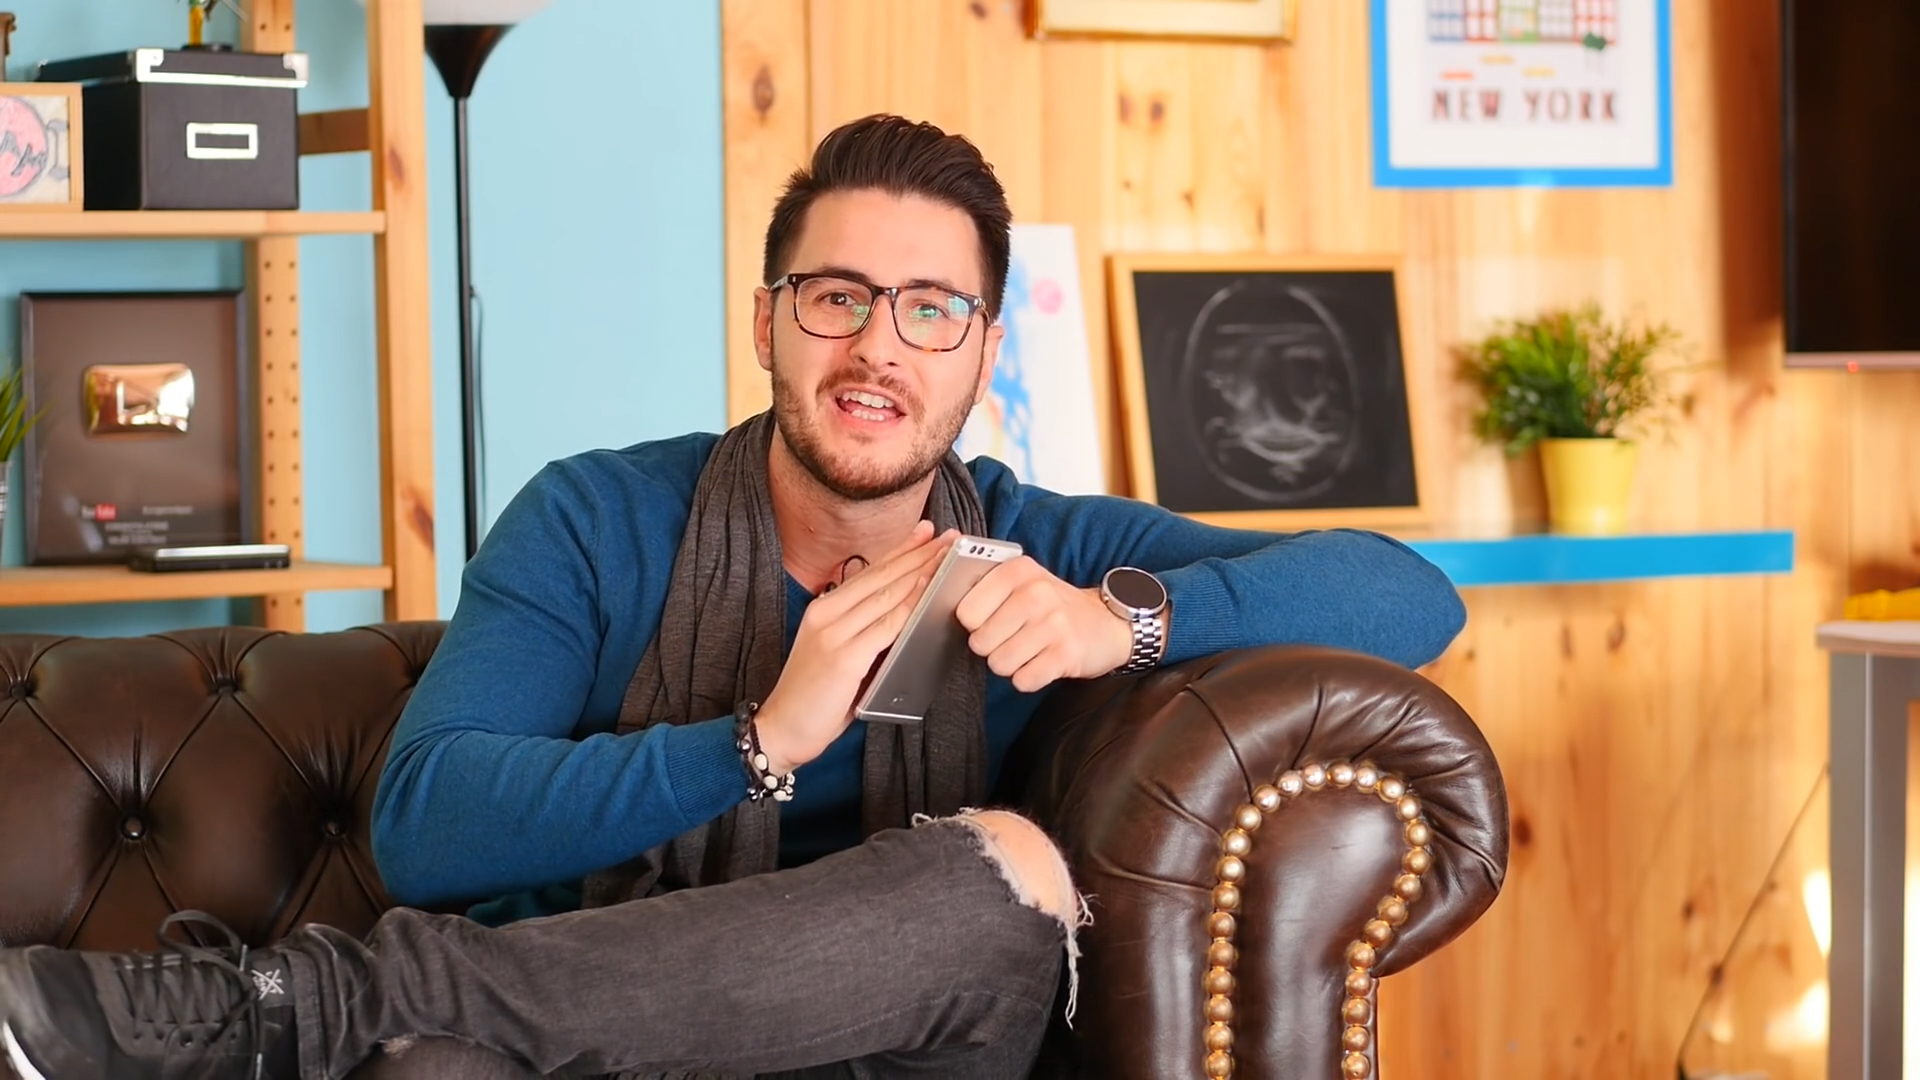smartphone: (851, 531, 1027, 729)
